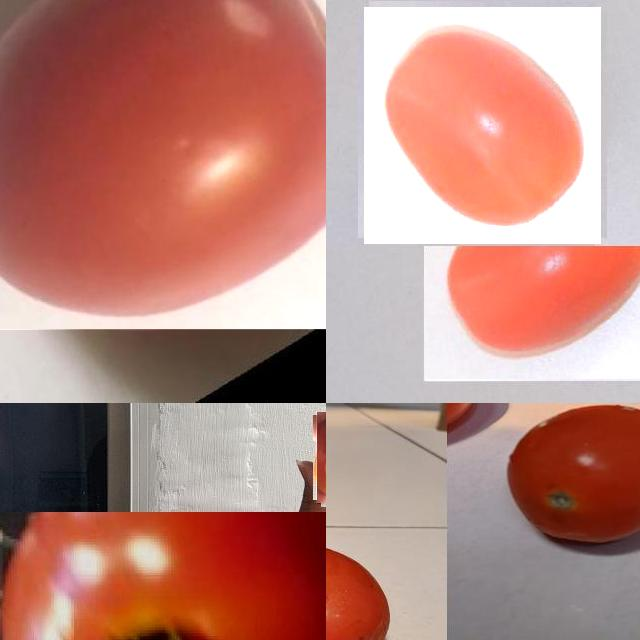0: (364, 7, 601, 244), (0, 512, 326, 640), (423, 246, 640, 380)
Fresh Tomato: (0, 0, 326, 330)
